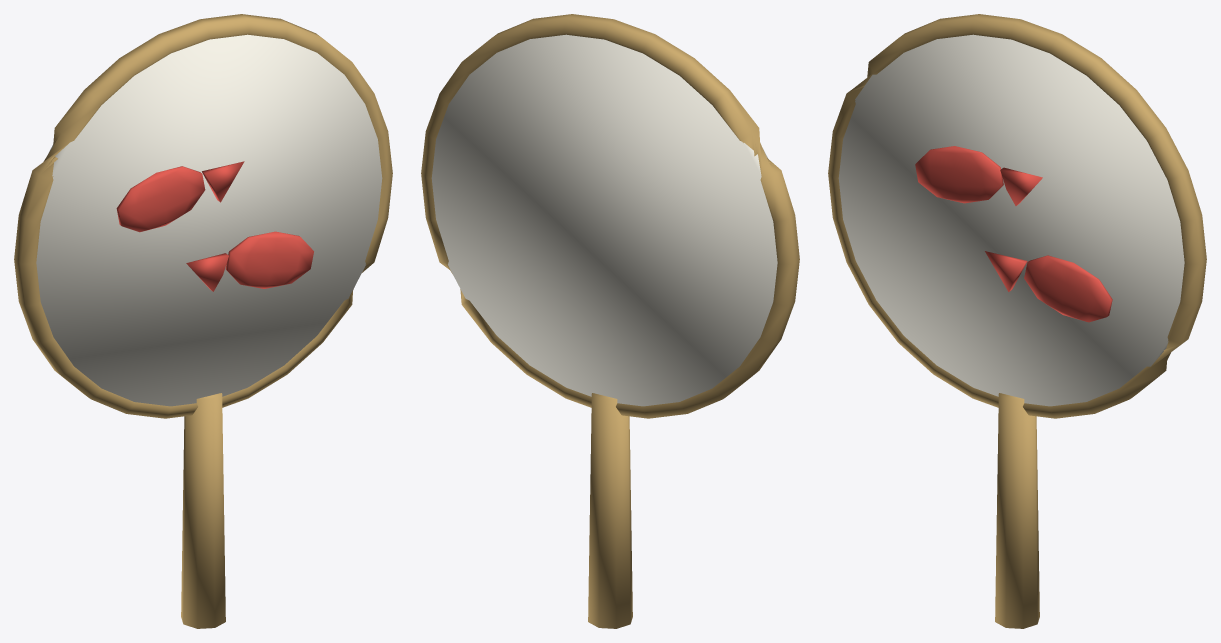
Rendered from event-fan.glb.
3 renders of one model, left to right at view 1: azimuth 30°, elevation 25°; view 2: azimuth 150°, elevation 25°; view 3: azimuth 330°, elevation 25°, orthographic.
Visible parts, largest first — view 1: fan; view 2: fan; view 3: fan.
Part boxes in pixels (bbox=[...]): fan: bbox=[14, 14, 392, 628]; fan: bbox=[421, 14, 799, 628]; fan: bbox=[828, 14, 1206, 628].
Bounding box in the file's own units: 0.2221 × 0.3411 × 0.024.
